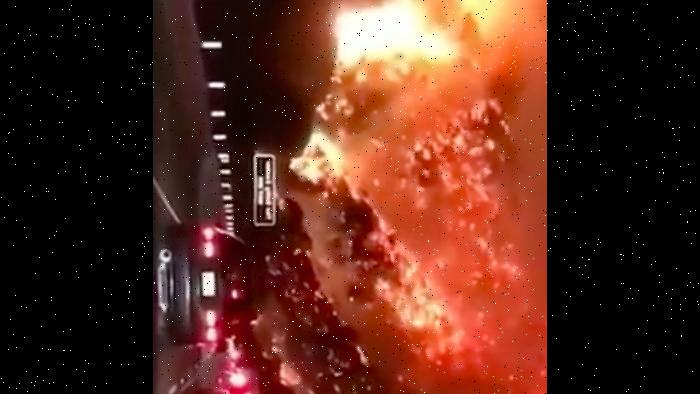fire: (294, 0, 545, 250), (248, 257, 547, 394)
